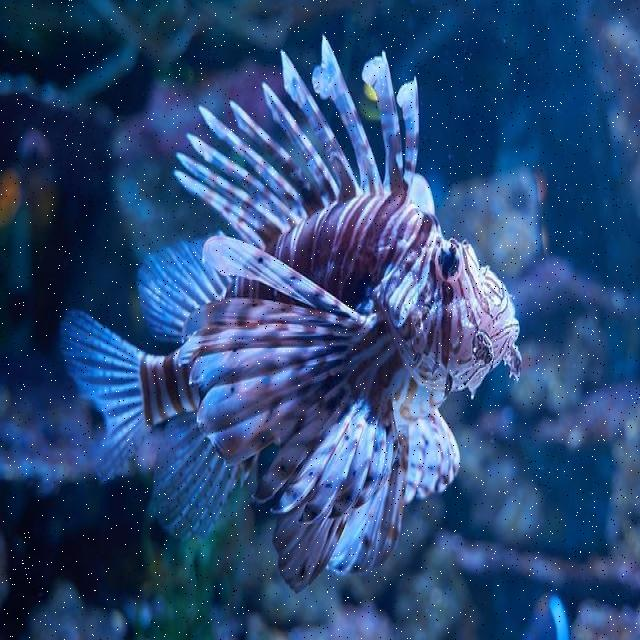fish: (58, 33, 525, 589)
